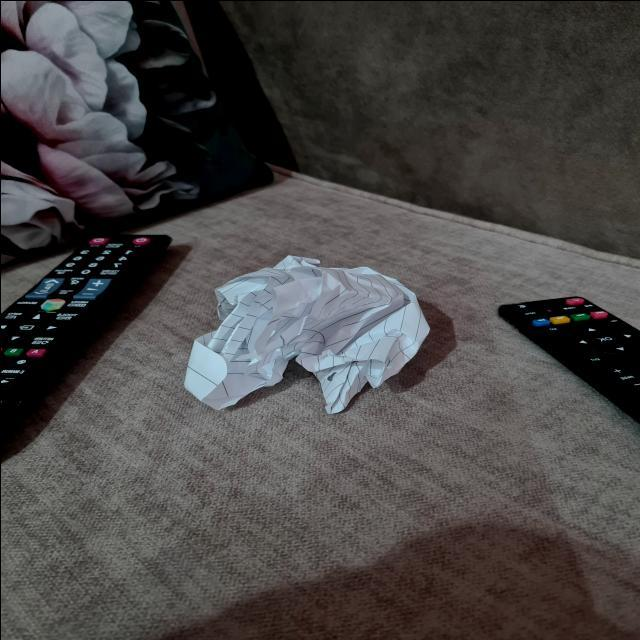Paper: (188, 248, 438, 414)
